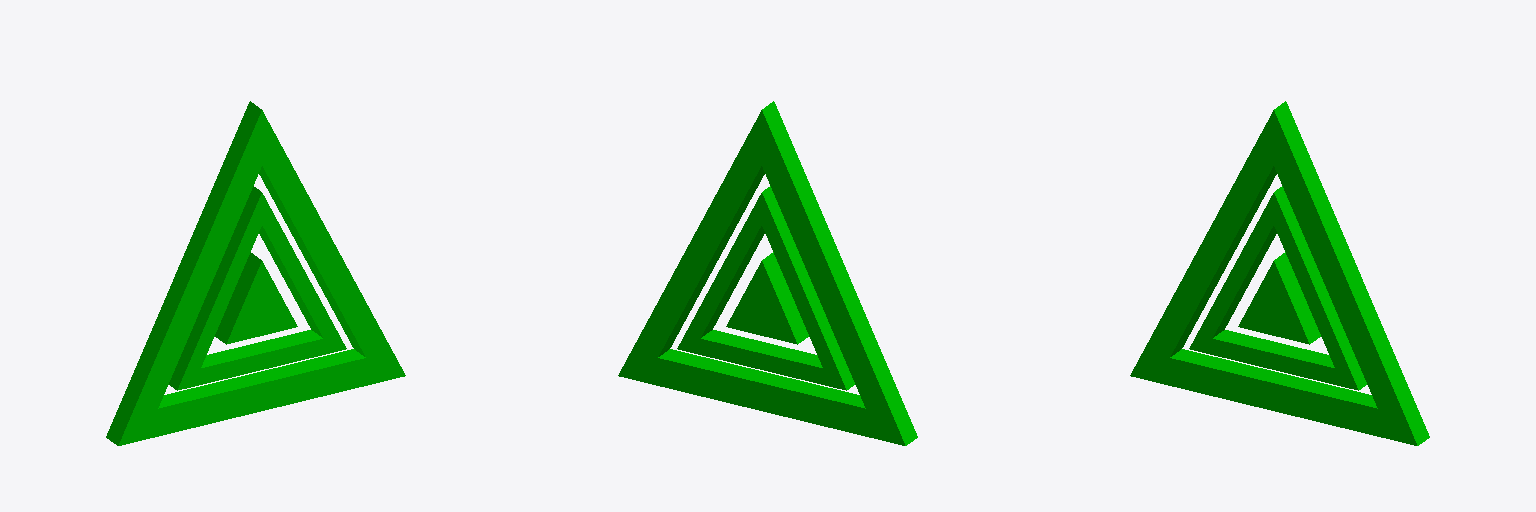
The model's file is GreenSign.obj.
The picture shows the model from 3 angles: view 1: azimuth 30°, elevation 25°; view 2: azimuth 150°, elevation 25°; view 3: azimuth 330°, elevation 25°; orthographic projection.
Parts seen in each view (by area): view 1: GreenSign_Plane.001; view 2: GreenSign_Plane.001; view 3: GreenSign_Plane.001.
Boxes of the visible parts, box(x1,y1,x2,y2) form: GreenSign_Plane.001: box(106, 101, 405, 445); GreenSign_Plane.001: box(618, 101, 917, 445); GreenSign_Plane.001: box(1130, 101, 1429, 445).
Size of the model in its own units: 2 by 2 by 0.1482.